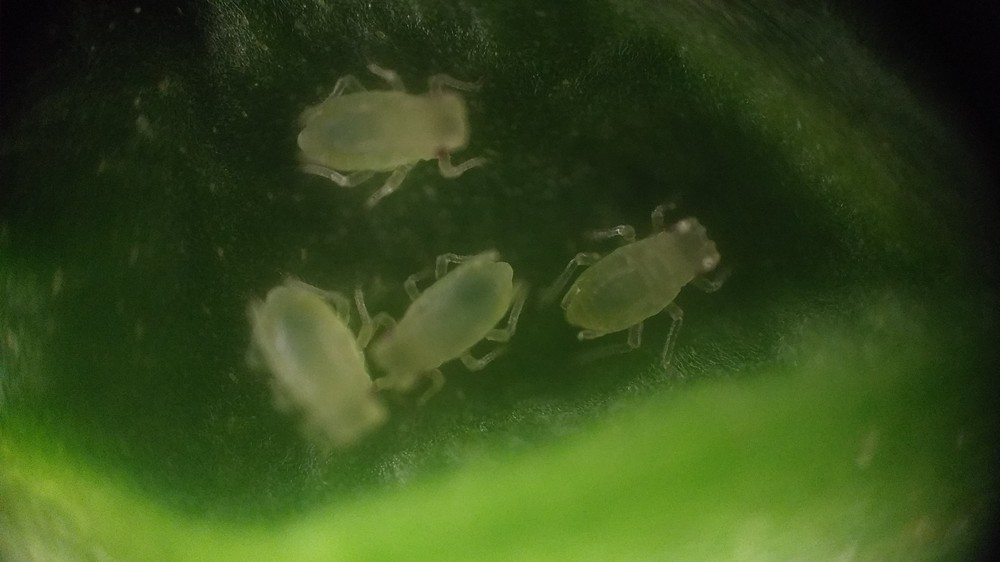Pulgon: (270, 39, 520, 205), (544, 186, 742, 387), (234, 268, 403, 453), (363, 242, 535, 397)
